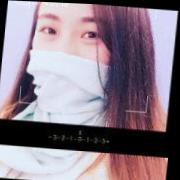WRONG: (29, 2, 119, 105)
